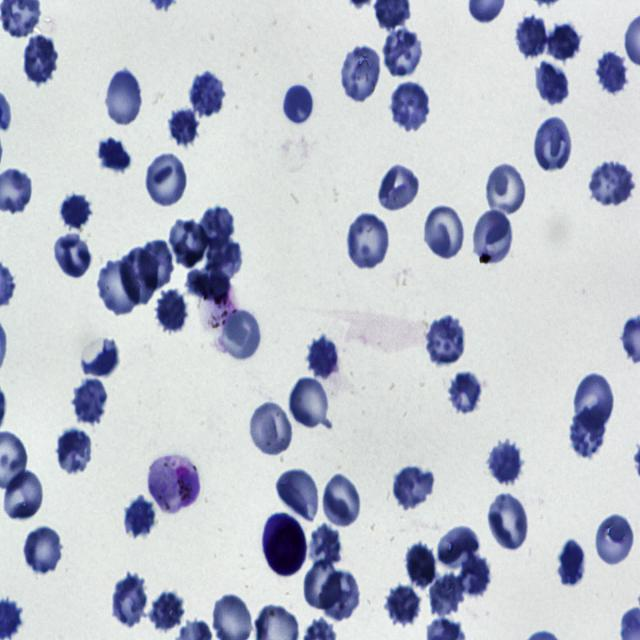difficult: (148, 456, 200, 512)
leukocyte: (262, 512, 307, 578)
red blood cell: (486, 491, 531, 553), (96, 259, 144, 316), (573, 371, 617, 433), (346, 211, 391, 271), (470, 208, 514, 269), (587, 157, 637, 210), (248, 400, 294, 457), (339, 43, 381, 105), (275, 468, 321, 524), (484, 161, 528, 219), (145, 151, 188, 210), (118, 248, 160, 306), (423, 204, 466, 260), (1, 470, 46, 523), (219, 308, 263, 362), (21, 522, 65, 575), (381, 26, 424, 80), (110, 573, 151, 629), (594, 513, 636, 567), (104, 70, 143, 128), (289, 378, 331, 431), (389, 80, 431, 132), (534, 117, 573, 173), (138, 240, 177, 296), (322, 473, 362, 526), (437, 523, 481, 571), (392, 462, 435, 511), (304, 558, 343, 612), (378, 162, 420, 212), (425, 316, 467, 366), (168, 212, 206, 266), (55, 427, 95, 478), (484, 438, 524, 488), (555, 535, 591, 590), (21, 33, 59, 85), (54, 231, 94, 279), (321, 570, 359, 619), (568, 410, 606, 458), (72, 377, 109, 425), (512, 13, 548, 61), (152, 288, 188, 336), (304, 334, 340, 382), (205, 236, 243, 281), (457, 551, 493, 598), (384, 583, 422, 627), (448, 371, 485, 416), (196, 209, 235, 251), (308, 524, 343, 570), (148, 591, 185, 634), (80, 340, 120, 378), (430, 571, 462, 618), (534, 60, 568, 104), (404, 542, 435, 590), (192, 71, 224, 117), (548, 21, 582, 63), (596, 50, 629, 93), (57, 192, 93, 229), (124, 495, 156, 536), (283, 83, 313, 126), (169, 106, 199, 147), (100, 135, 130, 172)
